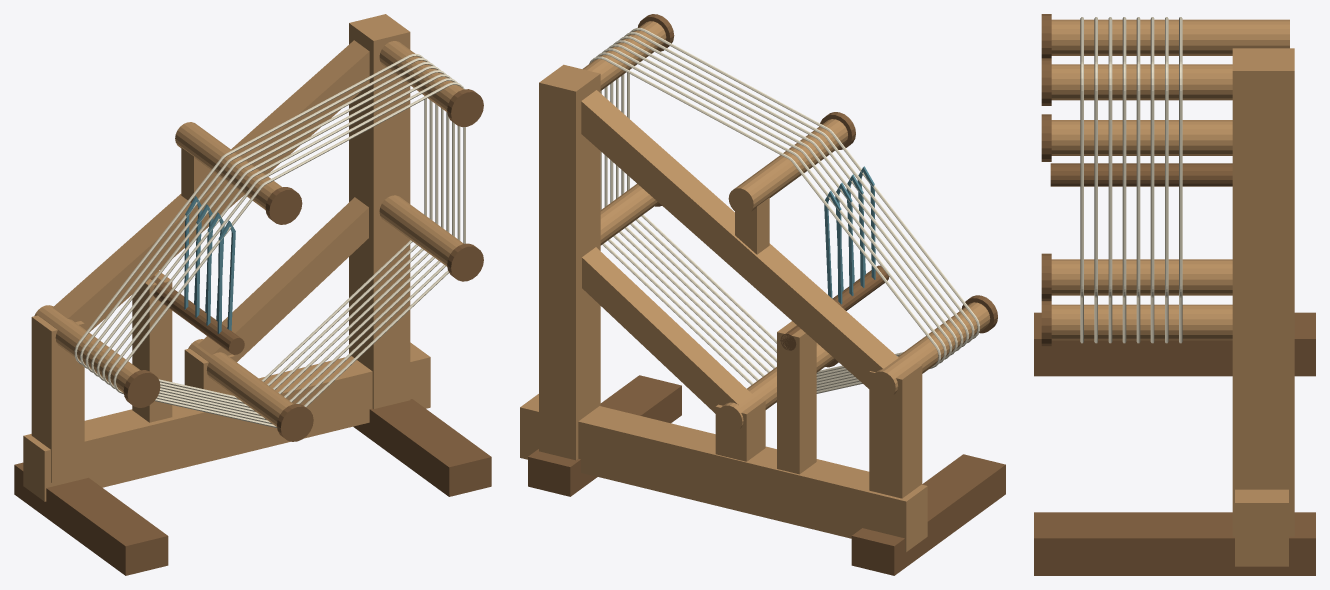
The picture shows the model from 3 angles, left to right: view 1: azimuth 30°, elevation 25°; view 2: azimuth 150°, elevation 25°; view 3: azimuth 270°, elevation 25°; orthographic projection. The views are drawn at different scales.
Visible parts, largest first — view 1: WholeLowLongitudinalSideRail, WholeRearUpright, WholeInclinedSideArm, WholeGroundFoot_0, WholeLowerDiagonalSideBrace, WholeGroundFoot_1, WholeFrontShortPost, WholeHeddleBarRoot, WholeContinuousWarpCircuit_1, WholeContinuousWarpCircuit_3, WholeContinuousWarpCircuit_5, WholeContinuousWarpCircuit_6 (+20 smaller); view 2: WholeLowLongitudinalSideRail, WholeRearUpright, WholeInclinedSideArm, WholeLowerDiagonalSideBrace, WholeGroundFoot_0, WholeFrontShortPost, WholeHeddleBarRoot, WholeGroundFoot_1, WholeCantileverWarpPeg_1, WholeCantileverWarpPeg_0, WholeContinuousWarpCircuit_3, WholeContinuousWarpCircuit_4 (+14 smaller); view 3: WholeRearUpright, WholeGroundFoot_1, WholeGroundFoot_0, WholeCantileverWarpPeg_1, WholeCantileverWarpPeg_3, WholeCantileverWarpPeg_2, WholeCantileverWarpPeg_4, WholeCantileverWarpPeg_0, WholeLowLongitudinalSideRail, WholeLowHeddleBar, WholeContinuousWarpCircuit_3, WholeContinuousWarpCircuit_4 (+11 smaller).
Boxes of the visible parts, x1,y1,x2,y2 form: WholeLowLongitudinalSideRail: (23, 342, 430, 501); WholeRearUpright: (349, 14, 410, 408); WholeInclinedSideArm: (52, 40, 369, 331); WholeGroundFoot_0: (14, 462, 168, 575); WholeLowerDiagonalSideBrace: (198, 197, 368, 361); WholeGroundFoot_1: (353, 399, 491, 496); WholeFrontShortPost: (31, 315, 84, 482); WholeHeddleBarRoot: (132, 271, 172, 422); WholeContinuousWarpCircuit_1: (108, 78, 460, 423); WholeContinuousWarpCircuit_3: (96, 70, 449, 415); WholeContinuousWarpCircuit_5: (85, 62, 438, 407); WholeContinuousWarpCircuit_6: (80, 58, 432, 403); WholeLowLongitudinalSideRail: (520, 394, 927, 551); WholeRearUpright: (539, 64, 600, 460); WholeInclinedSideArm: (581, 90, 898, 388); WholeLowerDiagonalSideBrace: (582, 247, 752, 413); WholeGroundFoot_0: (851, 454, 1005, 575); WholeFrontShortPost: (869, 363, 922, 498); WholeHeddleBarRoot: (777, 321, 816, 474); WholeGroundFoot_1: (528, 375, 681, 496); WholeCantileverWarpPeg_1: (728, 119, 847, 214); WholeCantileverWarpPeg_0: (870, 302, 990, 398); WholeContinuousWarpCircuit_3: (610, 40, 963, 382); WholeContinuousWarpCircuit_4: (604, 44, 957, 385); WholeRearUpright: (1232, 48, 1294, 536); WholeGroundFoot_1: (1034, 512, 1315, 575); WholeGroundFoot_0: (1034, 312, 1315, 376); WholeCantileverWarpPeg_1: (1051, 19, 1289, 55); WholeCantileverWarpPeg_3: (1051, 259, 1232, 295); WholeCantileverWarpPeg_2: (1051, 64, 1232, 100); WholeCantileverWarpPeg_4: (1051, 304, 1232, 340); WholeCantileverWarpPeg_0: (1051, 120, 1232, 155); WholeLowLongitudinalSideRail: (1235, 489, 1288, 566); WholeLowHeddleBar: (1050, 163, 1232, 186); WholeContinuousWarpCircuit_3: (1122, 17, 1126, 343); WholeContinuousWarpCircuit_4: (1136, 17, 1140, 343).
Bounding box in the file's own units: 0.68 × 0.67 × 0.34.
